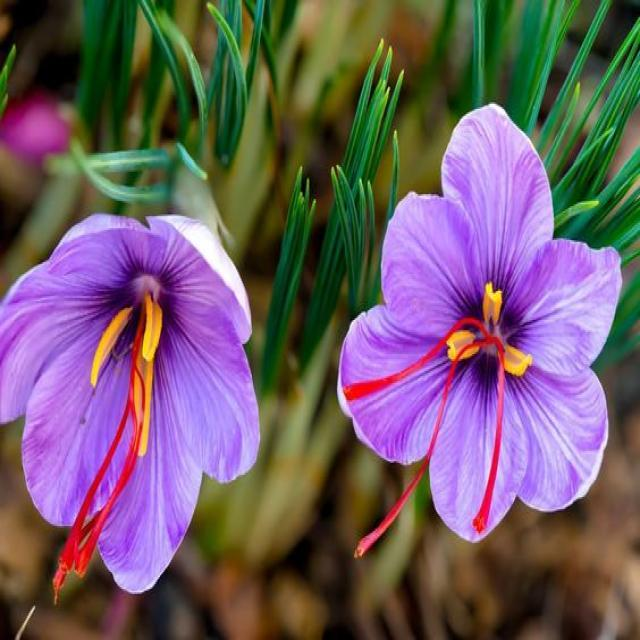Flower: (339, 107, 621, 543), (0, 214, 259, 592)
stigma: (350, 338, 497, 565), (49, 302, 149, 586), (70, 316, 149, 581), (342, 313, 499, 403), (471, 337, 507, 539)
